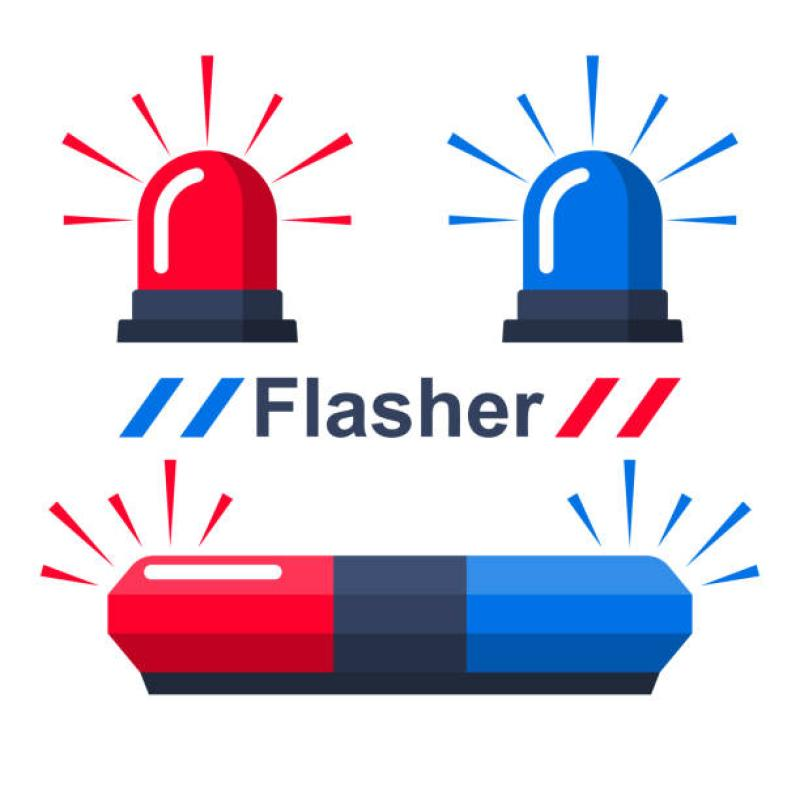AmbulanceSiren: (70, 497, 716, 719), (86, 131, 335, 366), (486, 109, 695, 354)
